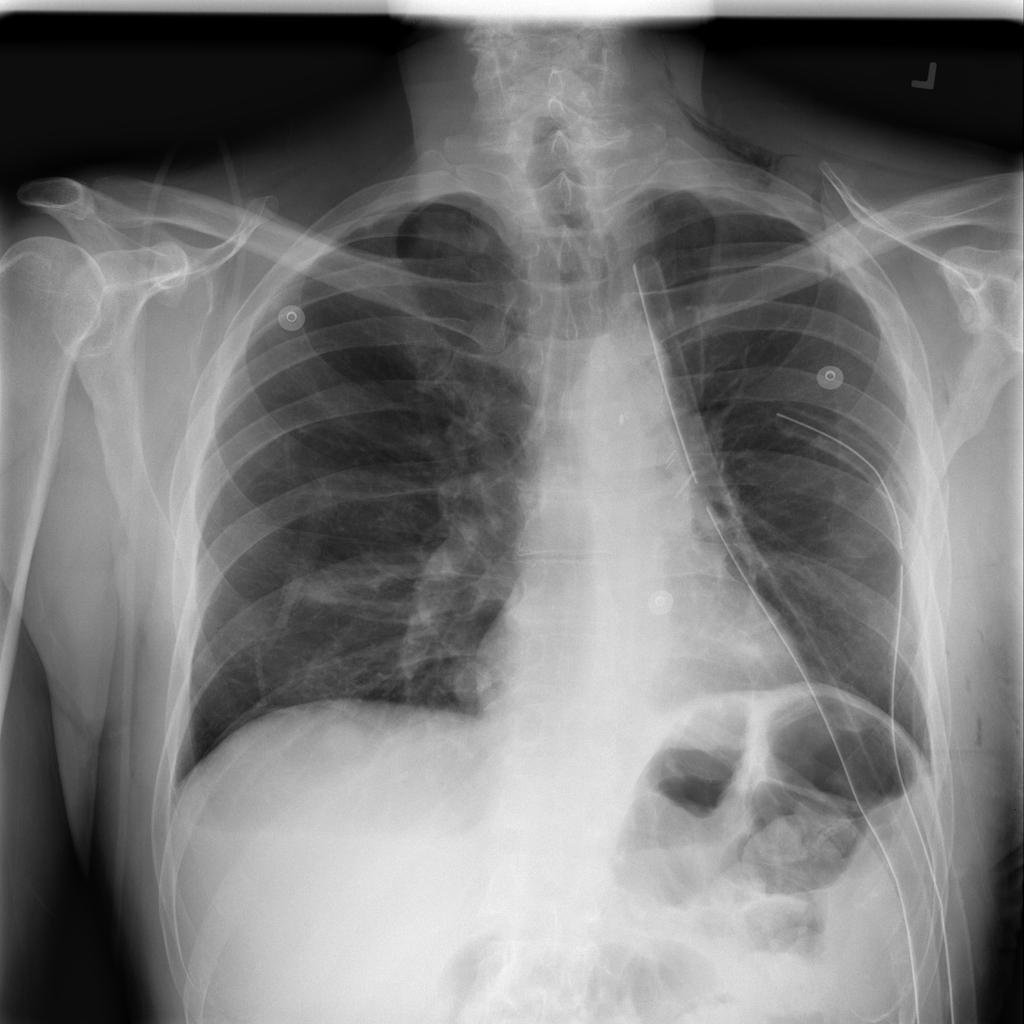nodule: (432, 647, 514, 714), (302, 707, 383, 774)
